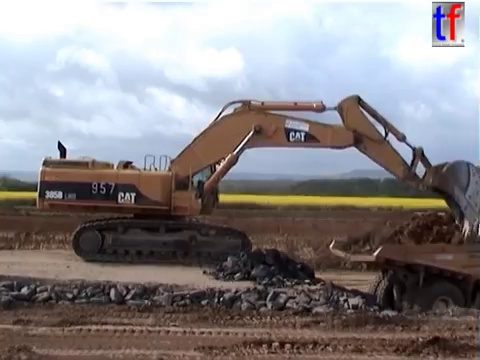excavator: (34, 92, 480, 269), (327, 231, 480, 334)
